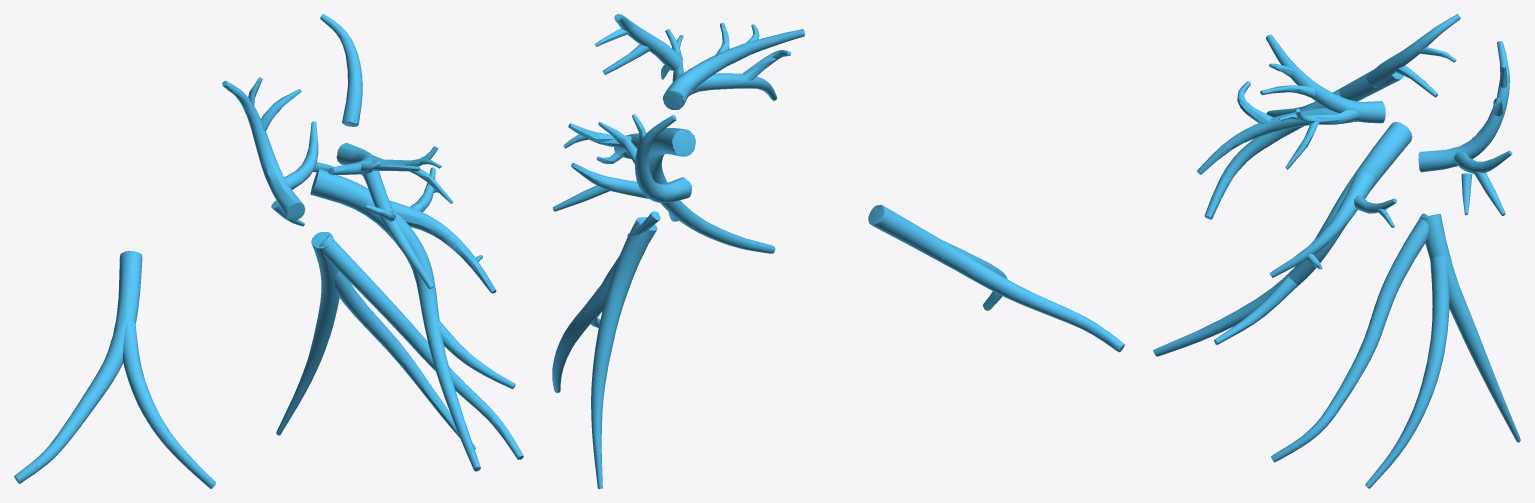
Rendered from bronkiolus.glb.
3 views of the same model, side by side, from view 1: azimuth 30°, elevation 25°; view 2: azimuth 150°, elevation 25°; view 3: azimuth 270°, elevation 25° (orthographic). The views are drawn at different scales.
Visible parts, largest first — view 1: bronchial; view 2: bronchial; view 3: bronchial.
Boxes of the visible parts, x1,y1,x2,y2 form: bronchial: [14, 14, 523, 488]; bronchial: [552, 14, 1124, 488]; bronchial: [1153, 14, 1520, 488].
Size of the model in its own units: 0.2333 by 0.1924 by 0.1477.
